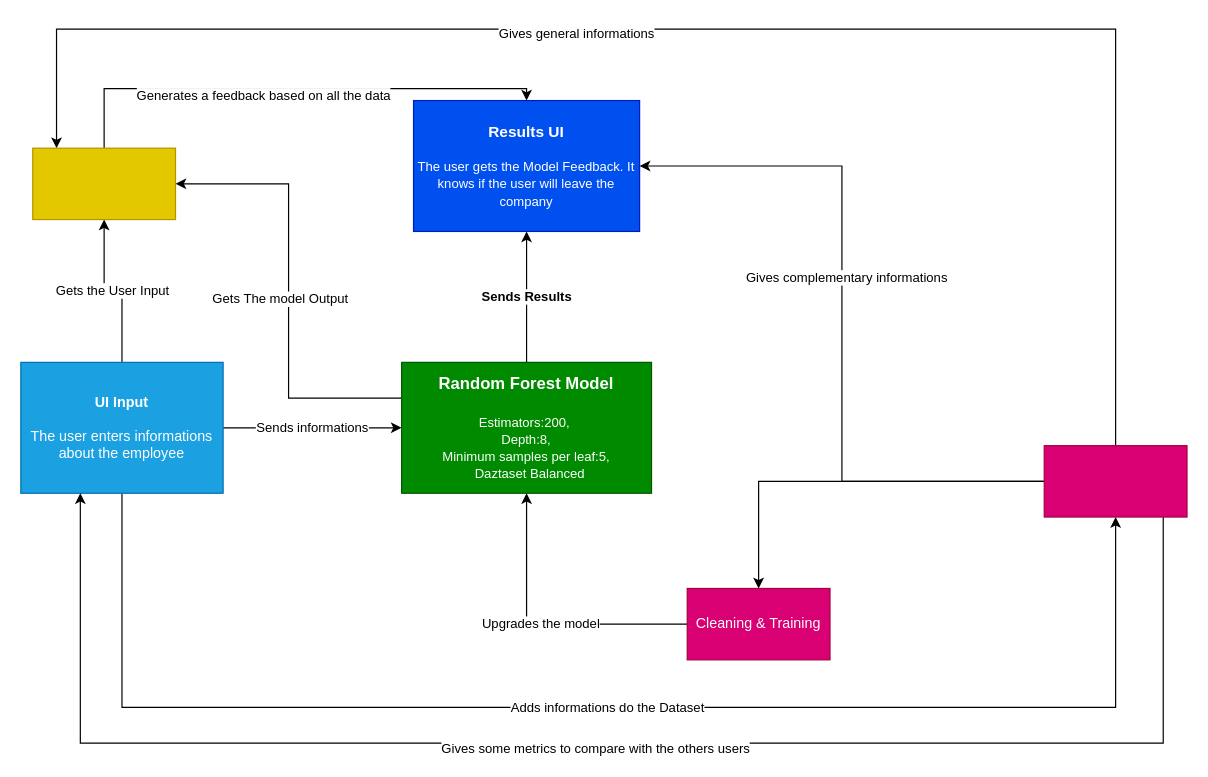
This 1208x777 diagram has some shape labels left out. Here are the shapes that lost their labels. From the top down, the box of each, then its label:
(32, 147, 176, 220): LLM: QWEN38B
(1043, 444, 1187, 517): Dataset
